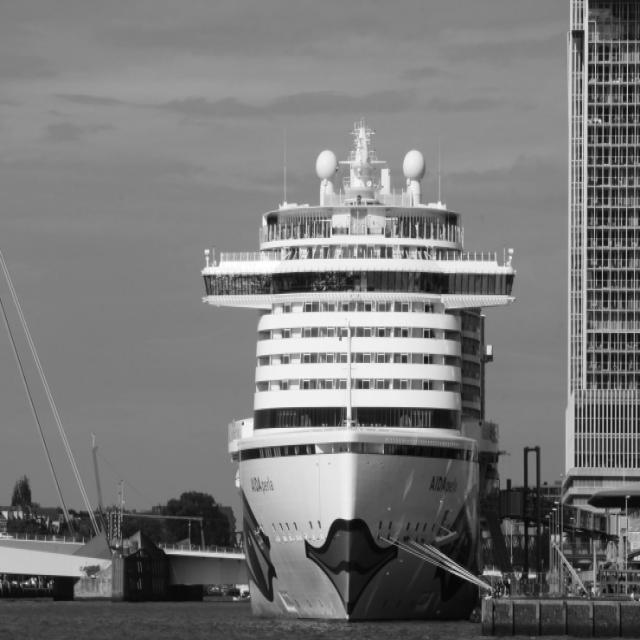cruises: (198, 120, 522, 634)
